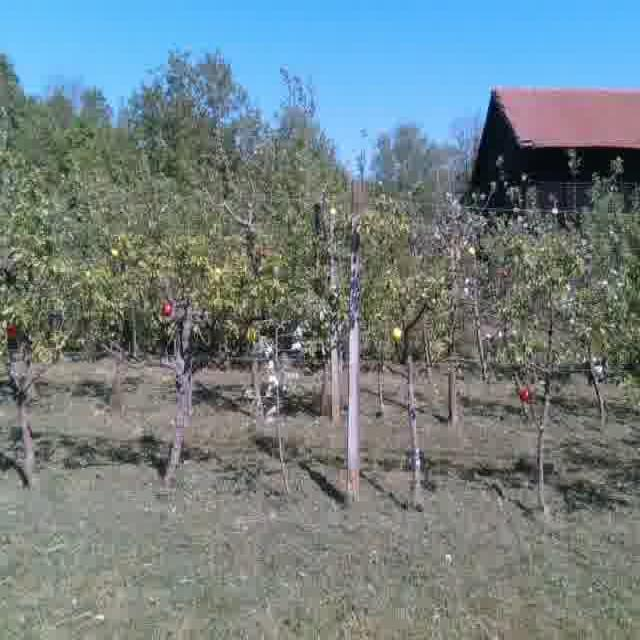red: (159, 301, 176, 319), (518, 383, 533, 403), (6, 321, 16, 337)
yellow: (244, 322, 262, 344), (390, 325, 404, 341)
